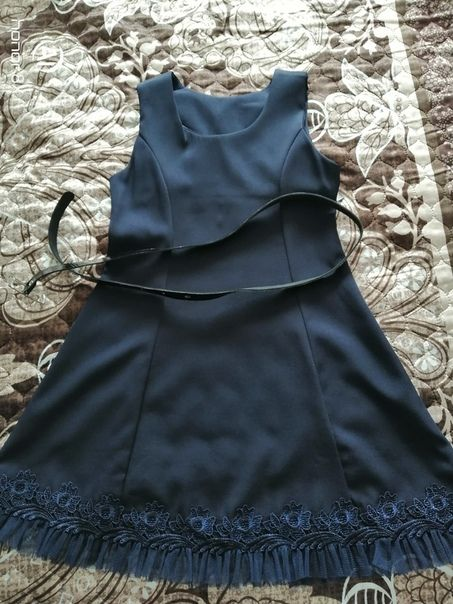clothes: (5, 62, 453, 590)
